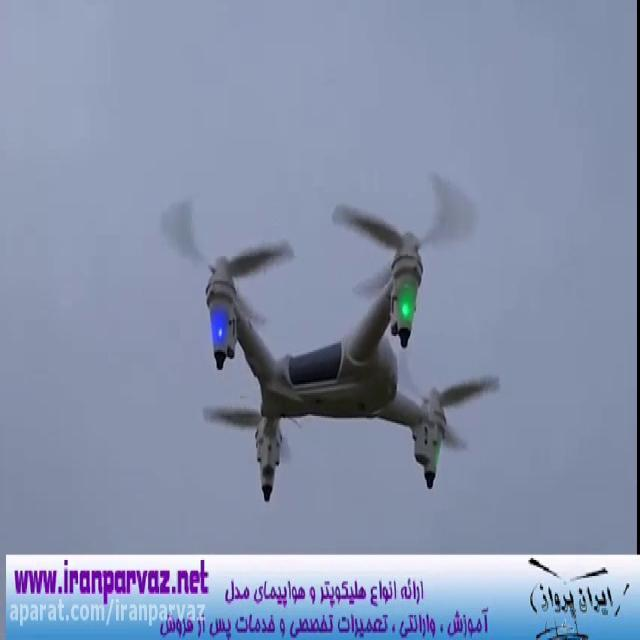drone: (154, 160, 504, 507)
